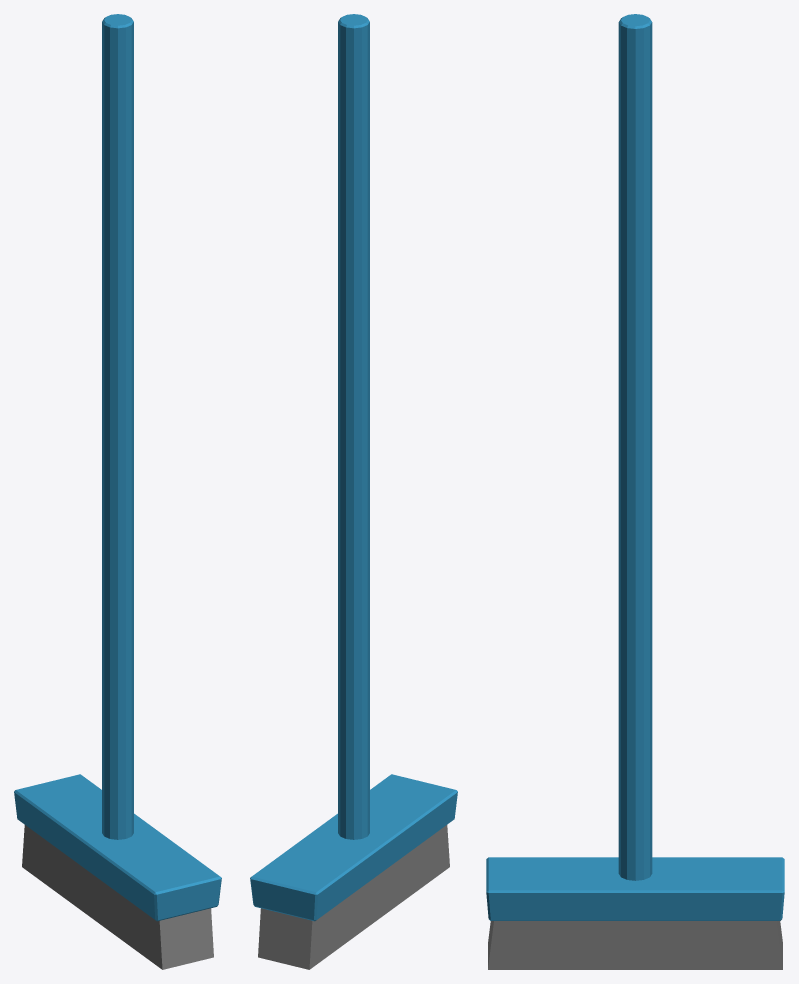
File: mop.fbx
3 views of the same model, side by side, from view 1: azimuth 30°, elevation 25°; view 2: azimuth 150°, elevation 25°; view 3: azimuth 270°, elevation 25° (orthographic). The views are drawn at different scales.
Parts seen in each view (by area): view 1: mop; view 2: mop; view 3: mop.
Boxes of the visible parts, x1,y1,x2,y2 form: mop: [14, 14, 221, 969]; mop: [250, 14, 457, 969]; mop: [486, 14, 784, 969].
Size of the model in its own units: 0.1909 by 2.4 by 0.6916.
